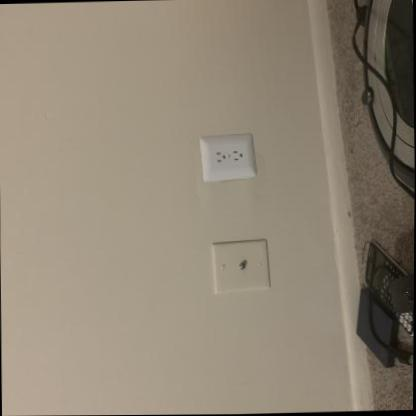OUTLET: (198, 135, 253, 180)
